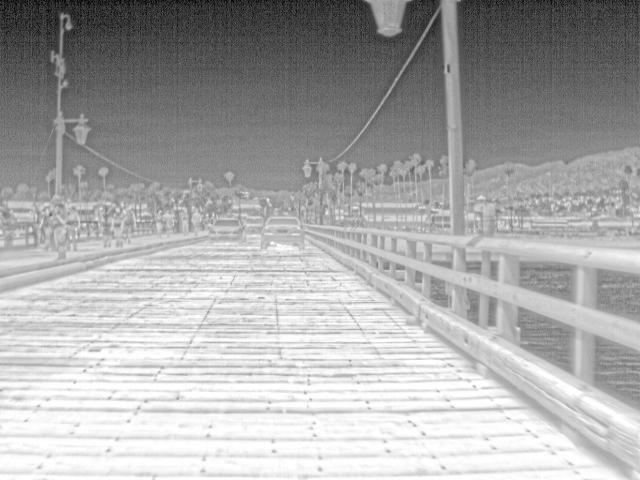car: (260, 216, 304, 248), (207, 216, 245, 244), (242, 216, 265, 234)
person: (51, 204, 66, 260), (63, 204, 81, 250), (121, 203, 138, 243), (111, 208, 127, 249), (158, 208, 176, 237), (99, 207, 112, 247), (190, 209, 206, 236)
